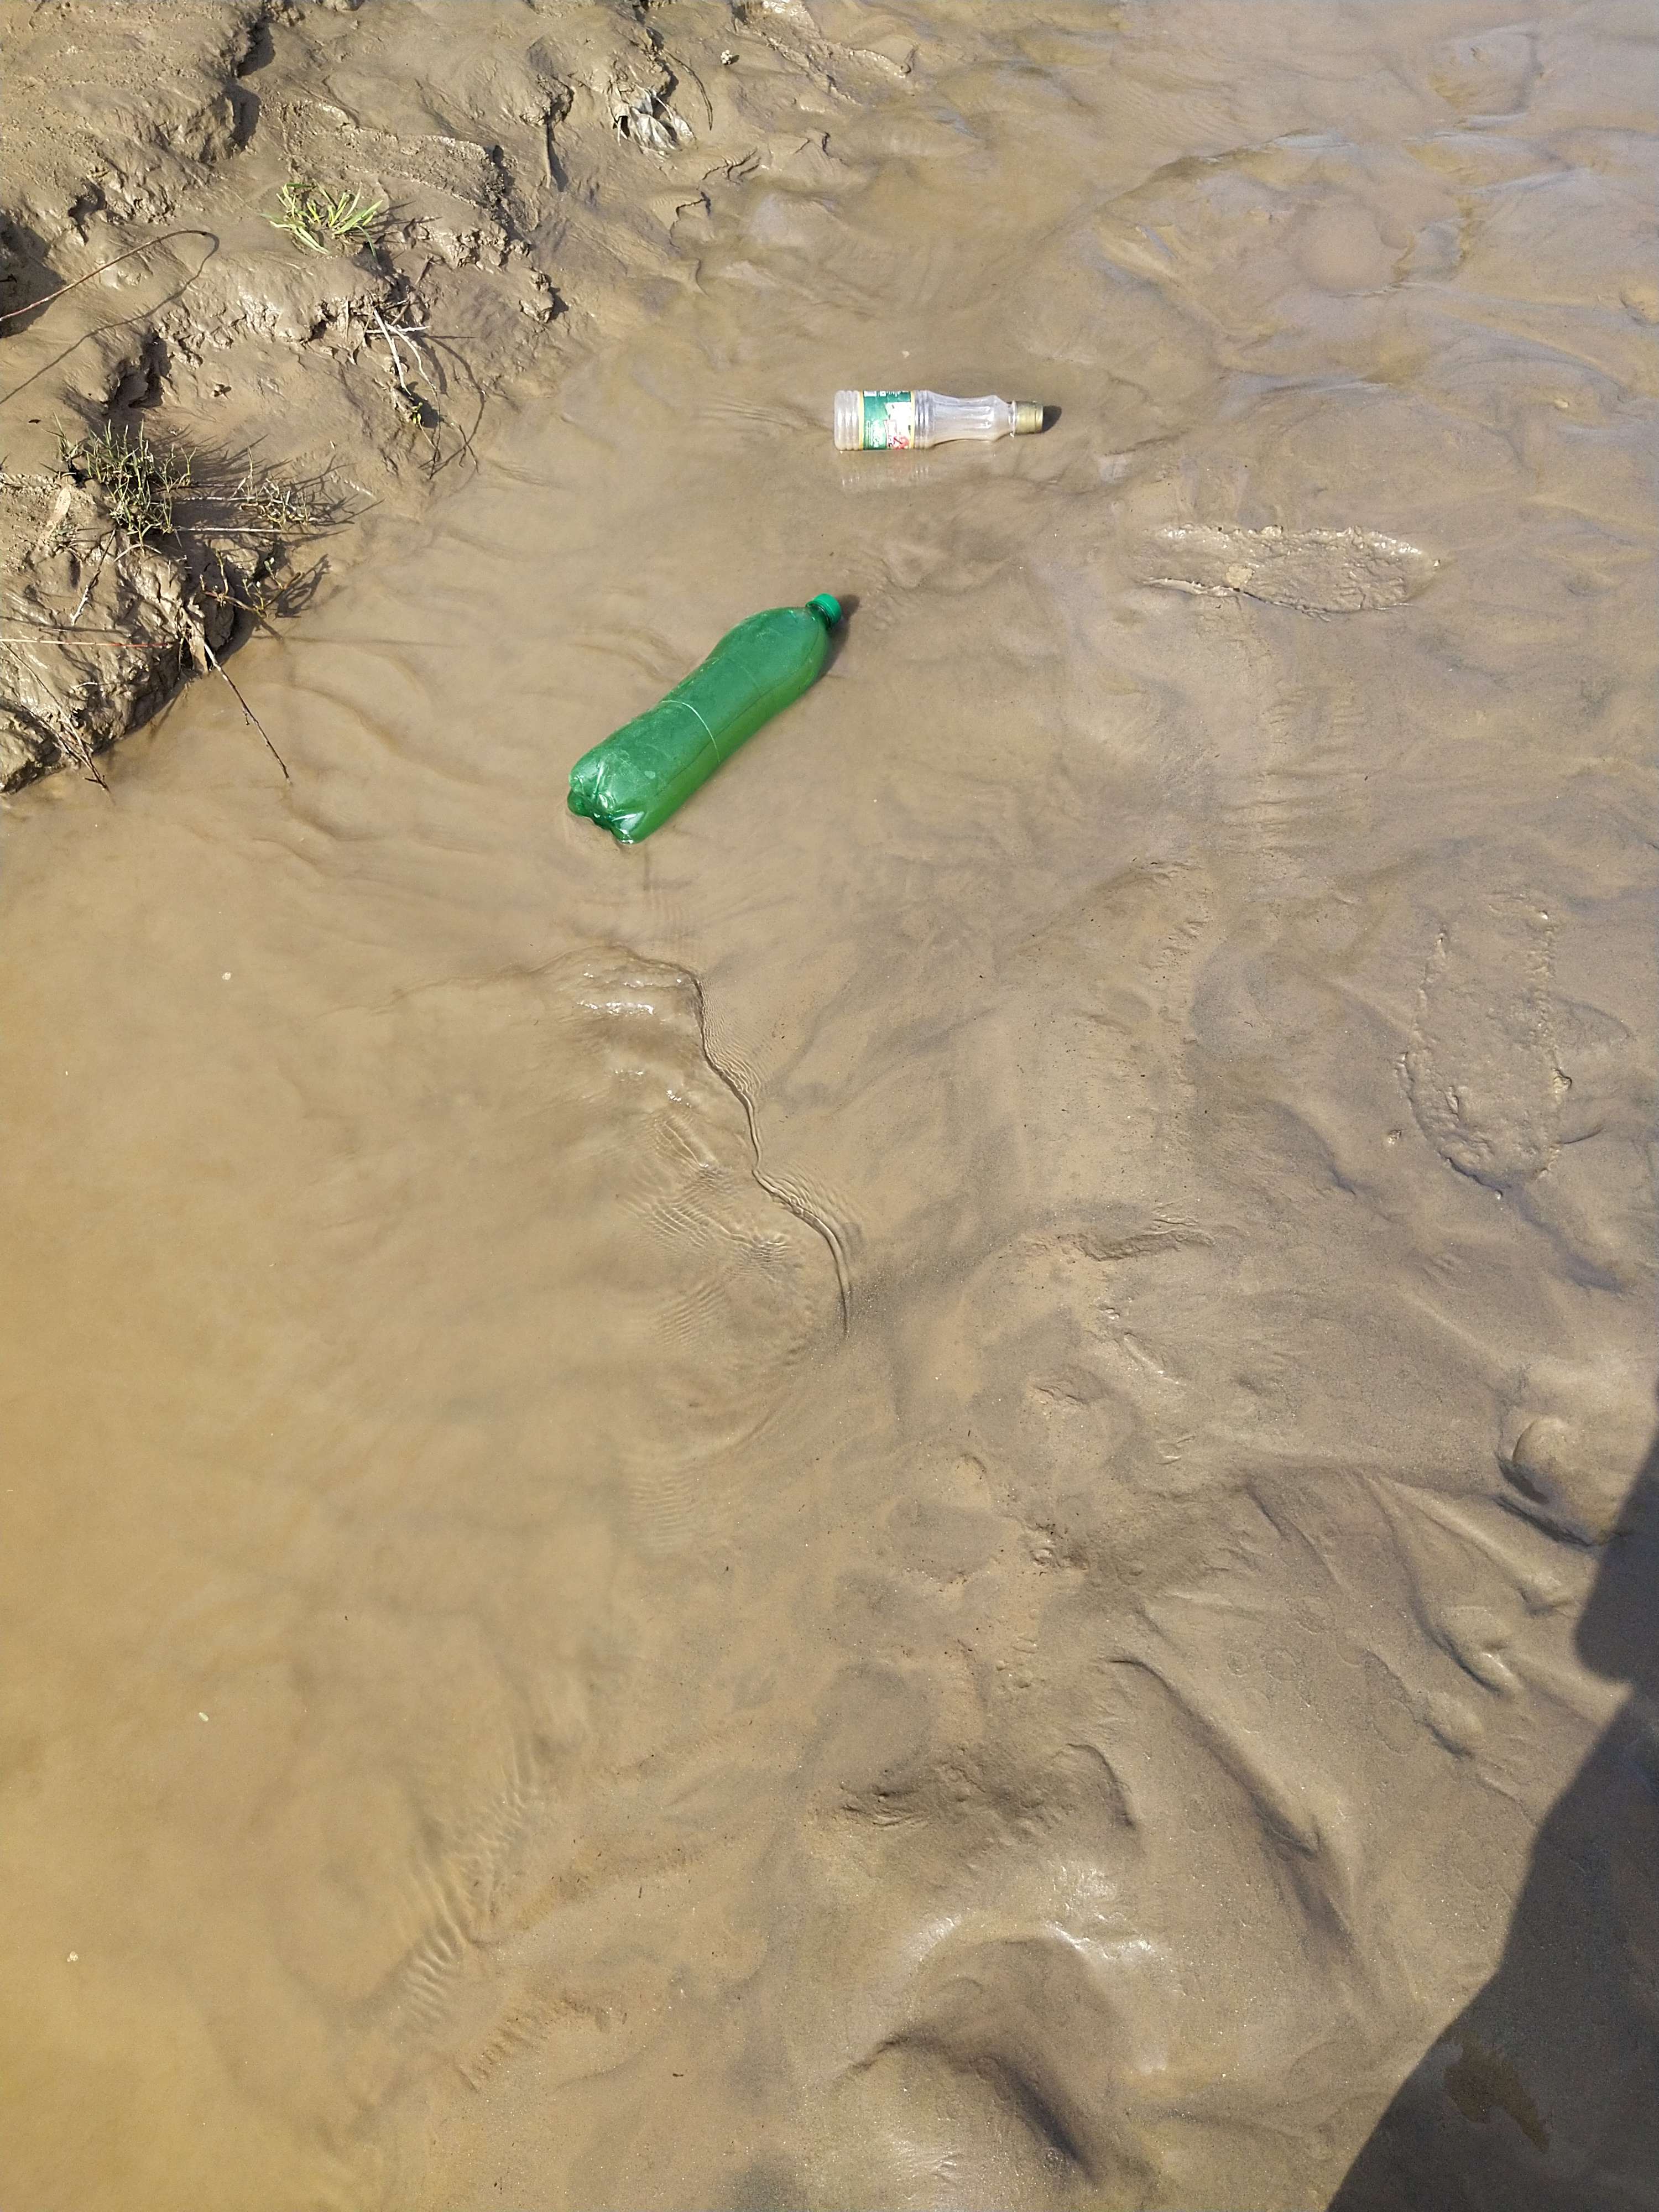Plastic Bottle: (566, 594, 842, 843), (833, 388, 1044, 451)
